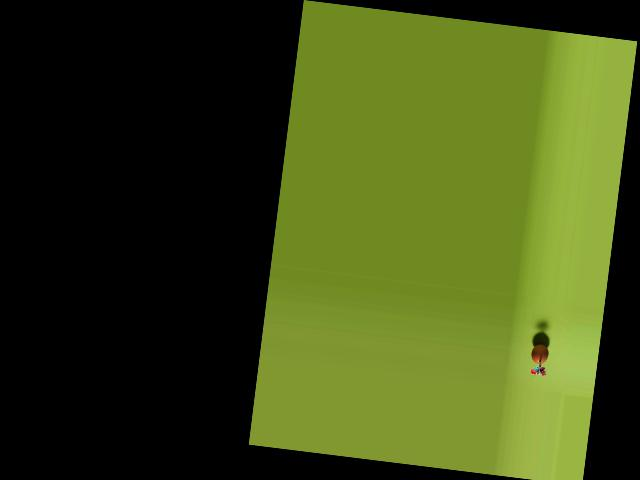egg: (530, 343, 549, 364)
